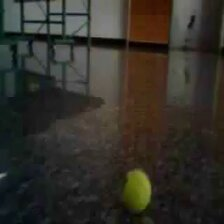tennis: (119, 168, 152, 213)
